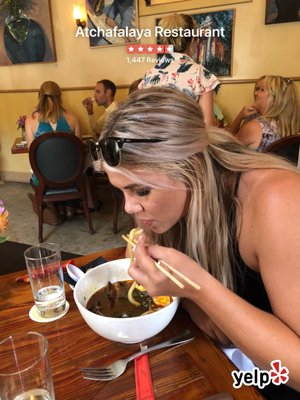burger: (80, 333, 197, 381)
pizza: (0, 331, 55, 400), (24, 243, 68, 319)
sandwich: (75, 333, 197, 382)
sushi: (73, 268, 181, 344)
